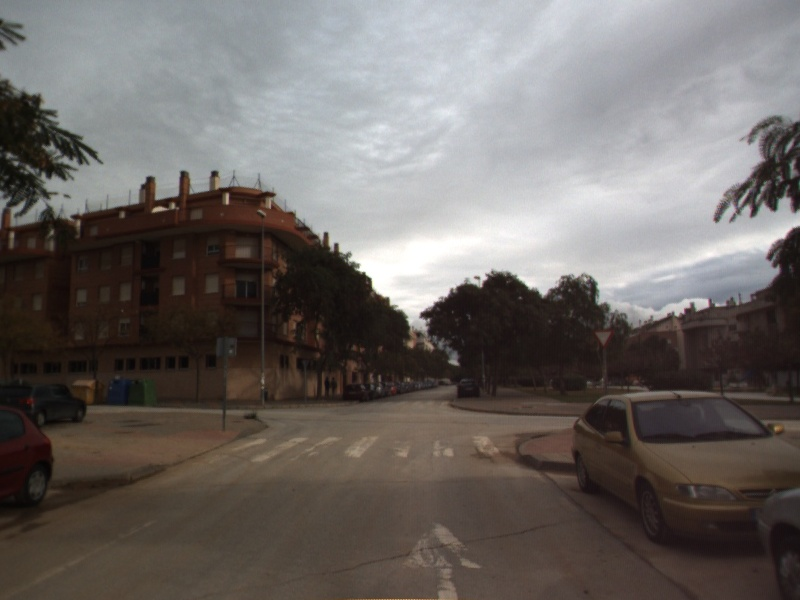STRAIGHT: (398, 515, 488, 600)
